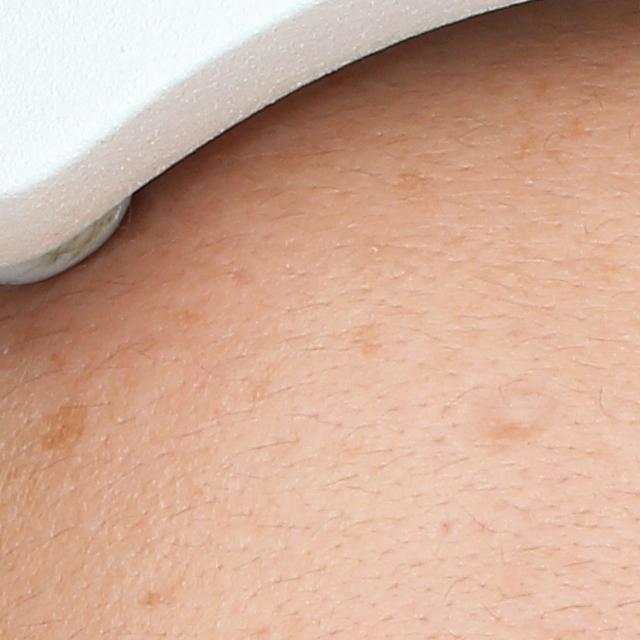melasma: (30, 394, 93, 458)
